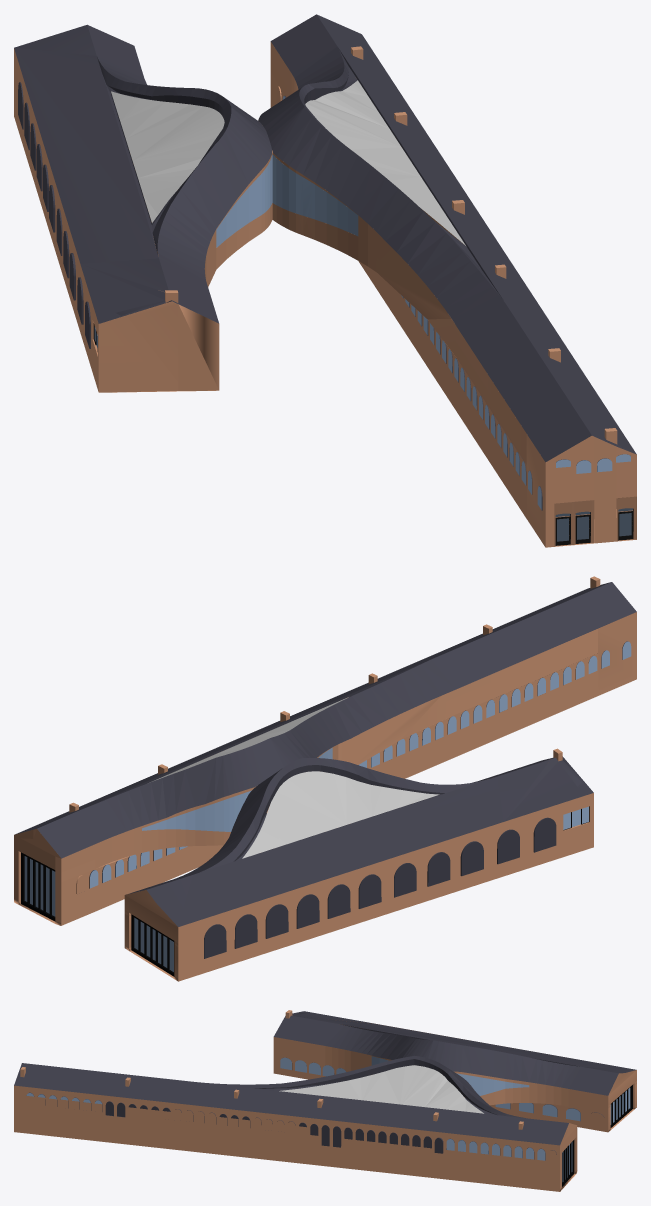
File: CoalDropsYard.glb
3 views of the same model, one above another, from view 1: azimuth 30°, elevation 25°; view 2: azimuth 150°, elevation 25°; view 3: azimuth 270°, elevation 25° (orthographic). The views are drawn at different scales.
Parts seen in each view (by area): view 1: Samsung, Drop1; view 2: Samsung, Drop1; view 3: Samsung, Drop1.
Part boxes in pixels (x1,y1,x2,y2): Samsung: (14,14,636,547); Drop1: (94,96,632,541); Samsung: (14,576,636,981); Drop1: (24,641,631,971); Samsung: (14,1010,636,1191); Drop1: (26,1056,630,1181).
Size of the model in its own units: 219 by 66.21 by 435.
